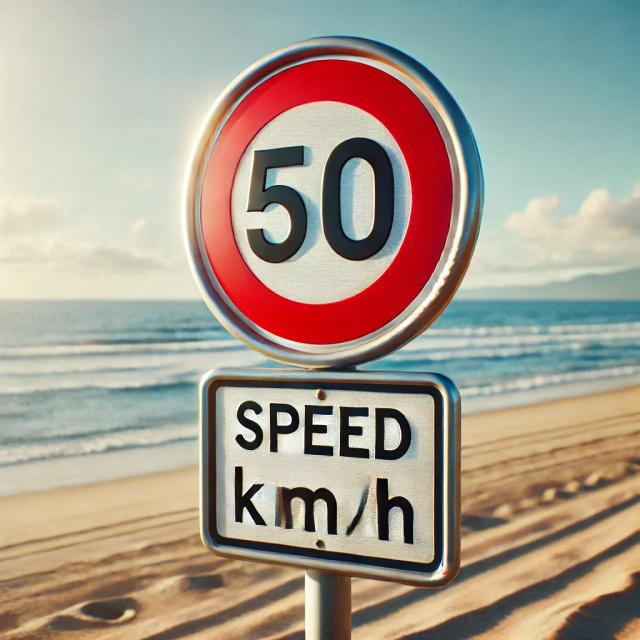Speed limit 50: (182, 34, 487, 369)
